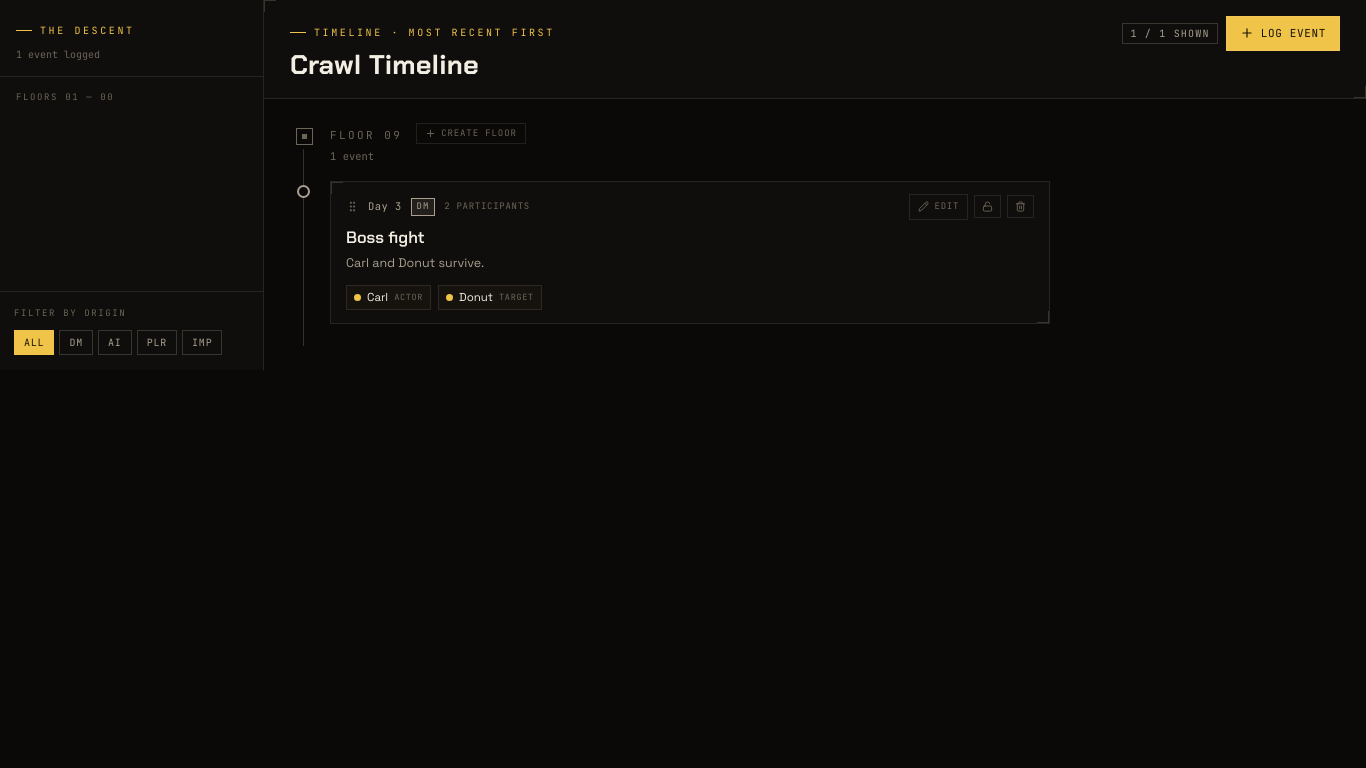
Test: CampaignTimeline › edits an event from the timeline: prefilled scalars + participants, submits
Click the button with aria-label "Edit event".
click(938, 207)  # box [908,194,968,220]
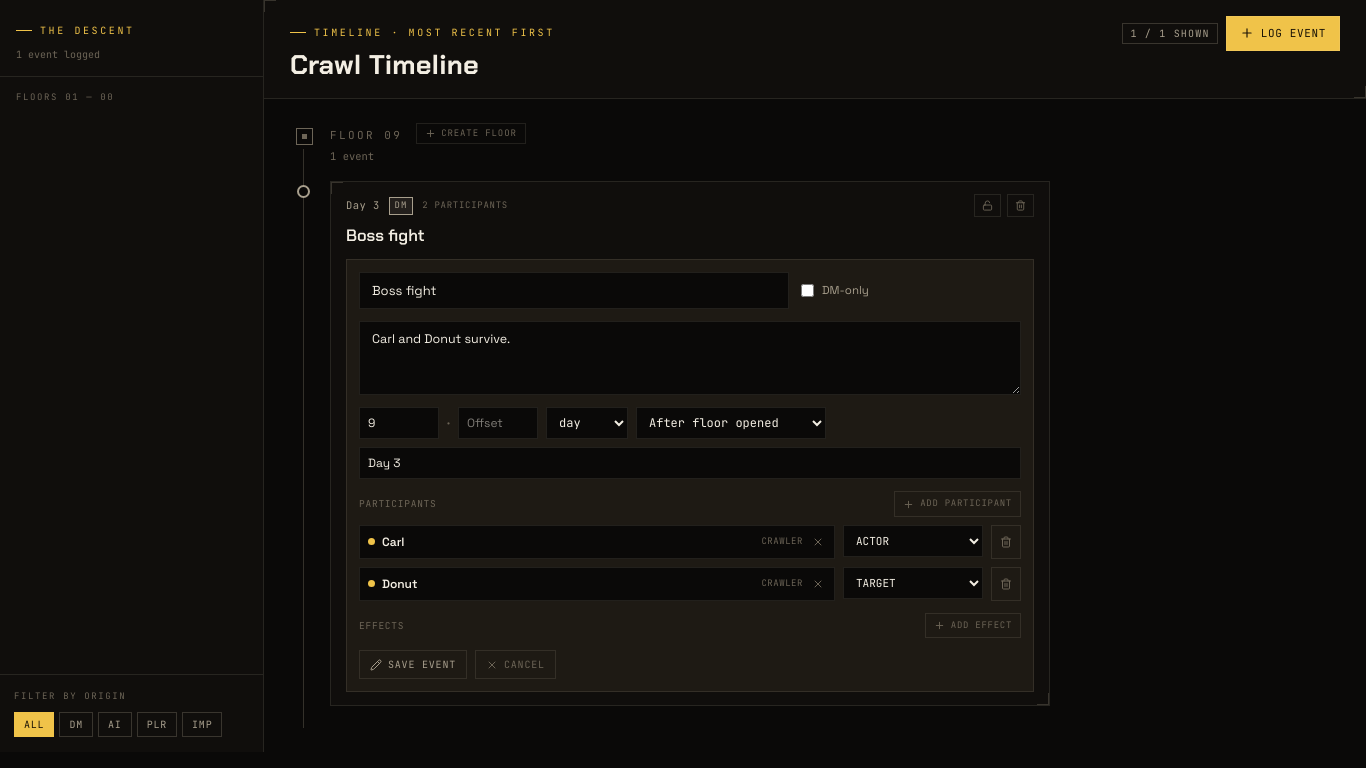
Check: the field named "Event title" holds "Boss fight"
Check: the number field named "Floor" holds "9", box [359,407,439,439]
Check: the element named "participantCount" holds "2", box [359,491,1021,601]
Replace the text in the field named "Event title" with "Boss fight (revised)" at (574, 290), box [359,272,789,309]
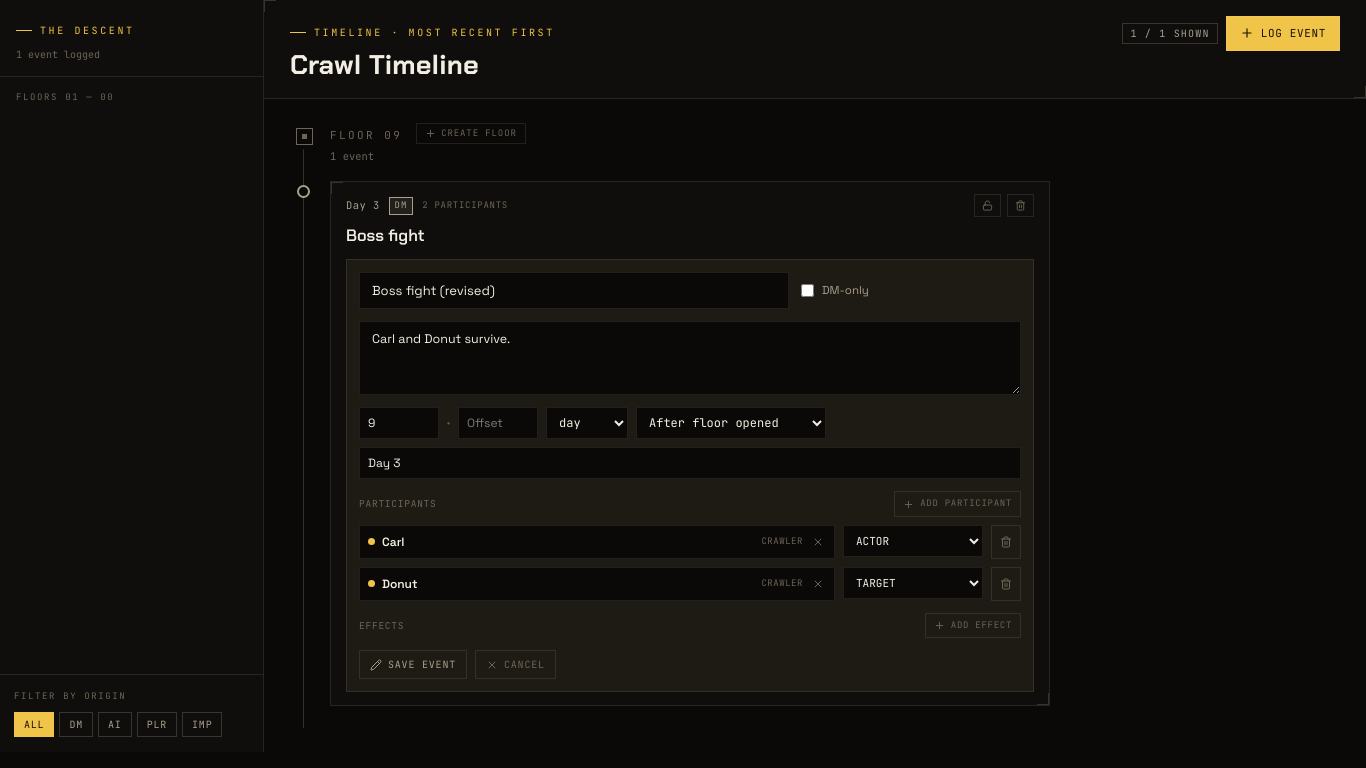
Submit the form named "Event title", box [359,272,1021,638]
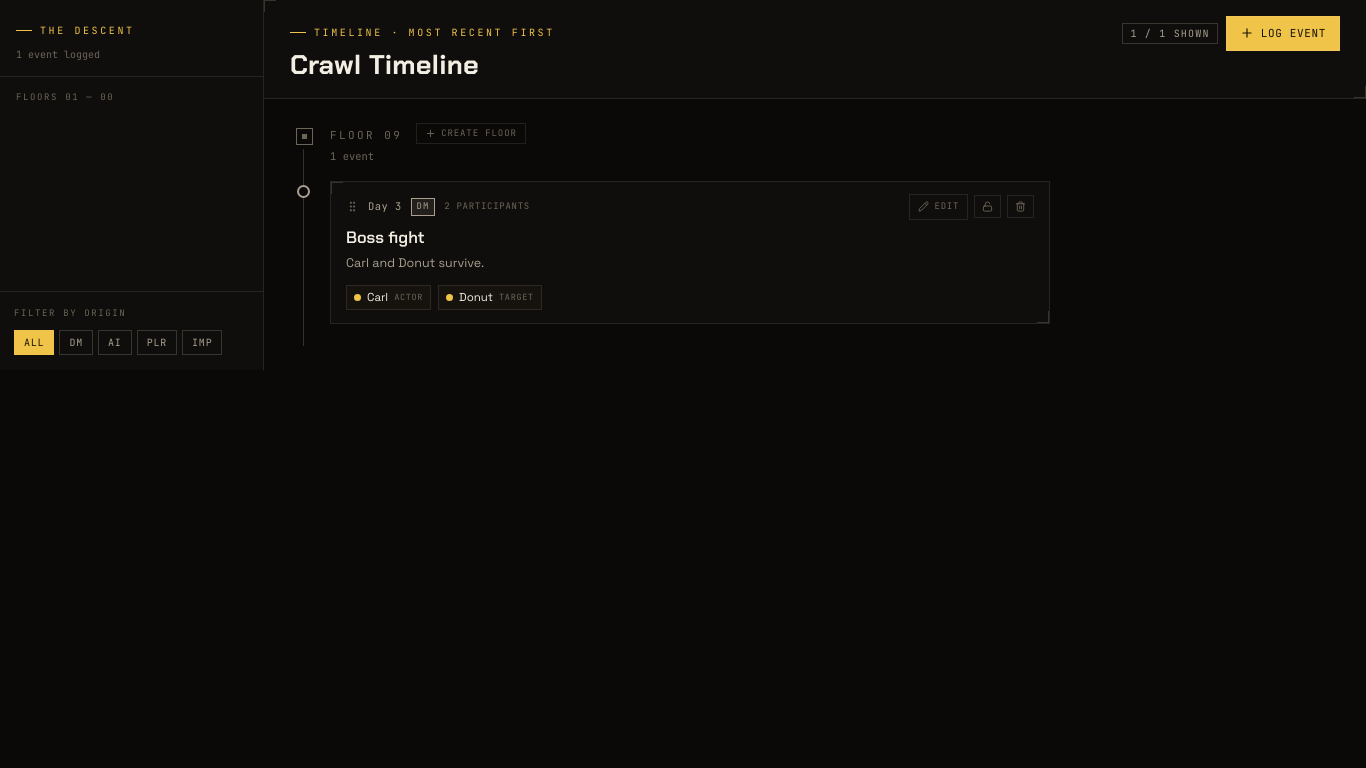
Check: the text "ACTOR" is shown, box [394,291,423,304]
Check: the text "TARGET" is shown, box [499,291,534,304]
